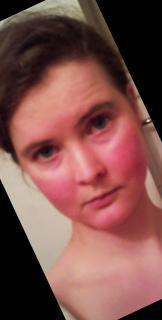Drunk: (15, 77, 144, 221)
